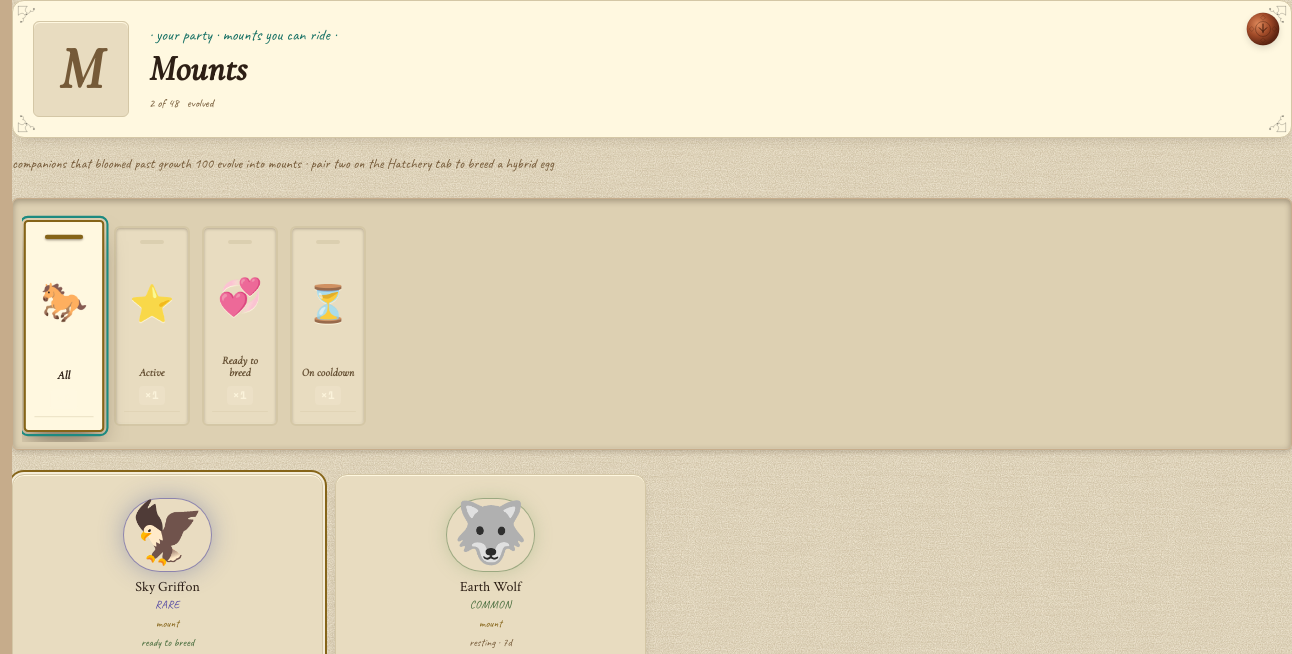
Test: Mounts tab › On cooldown filter shows only mounts within breeding window
This screenshot has width=1292, height=654.
Expected: the text "Sky Griffon" is shown, [135,578,200,596]
Click the tab "⏳ On cooldown ×1".
click(328, 326)  # box [290,226,366,426]
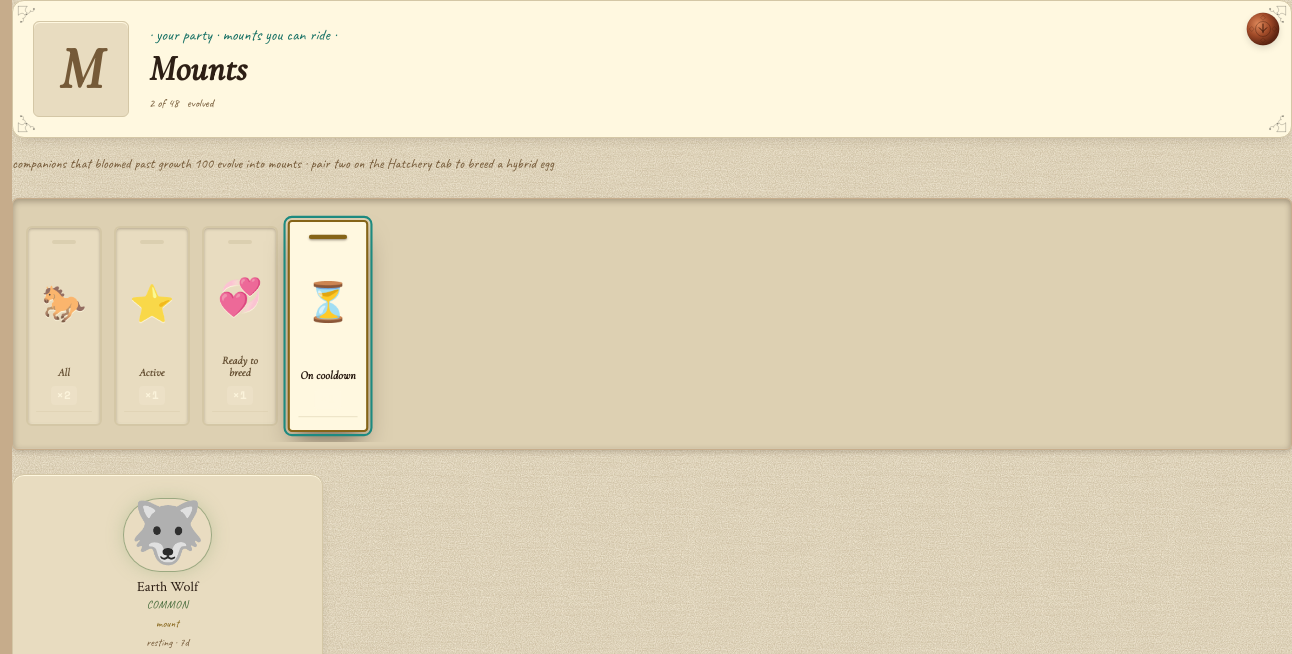
Expected: the text "Earth Wolf" is shown, [137,578,198,596]
Result: the text "Griffon" is gone
